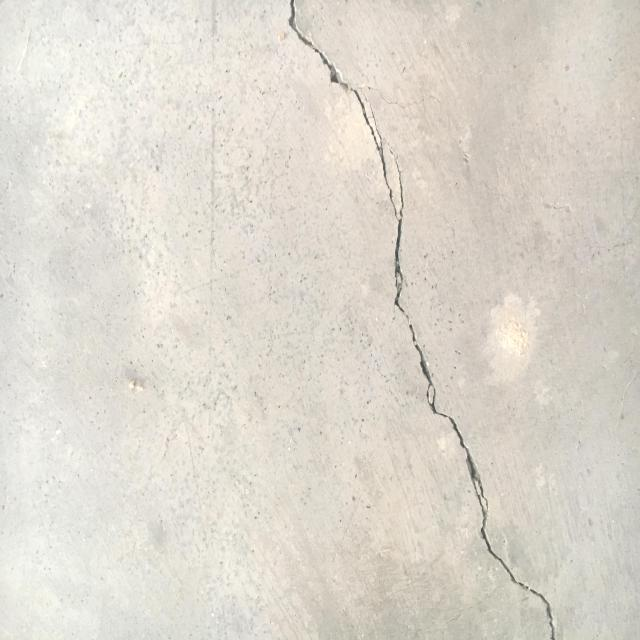SurfaceCrack: (241, 1, 585, 640)
